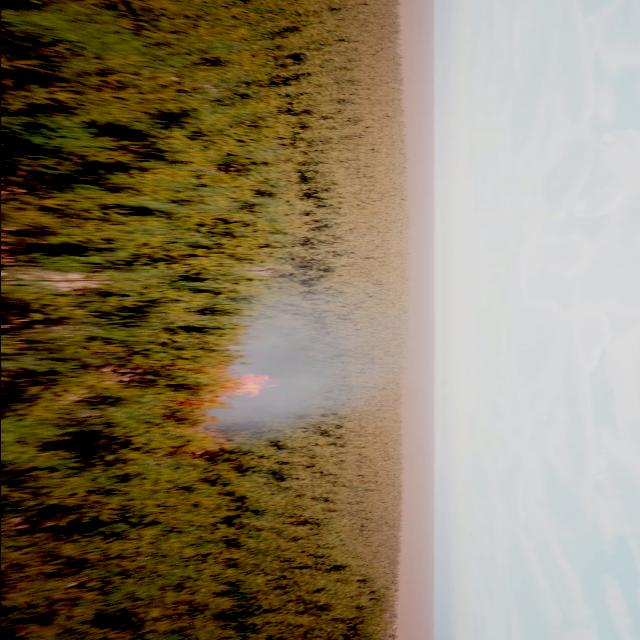fire: (222, 372, 274, 402)
smoke: (196, 279, 424, 447)
